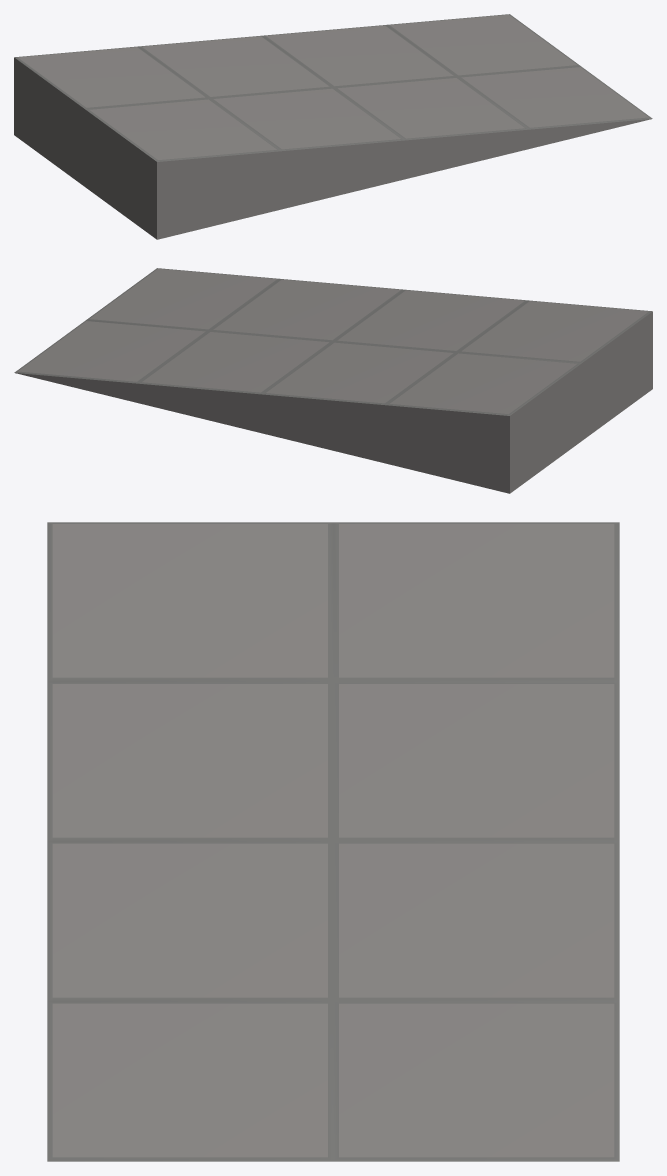
The model's file is SM_Env_Sidewalk_Slope_01.fbx.
3 views of the same model, one above another, from view 1: azimuth 30°, elevation 25°; view 2: azimuth 150°, elevation 25°; view 3: azimuth 270°, elevation 25° (orthographic). The views are drawn at different scales.
Visible parts, largest first — view 1: SM_Env_Sidewalk_Slope_01; view 2: SM_Env_Sidewalk_Slope_01; view 3: SM_Env_Sidewalk_Slope_01.
Boxes of the visible parts, bbox=[...] form: SM_Env_Sidewalk_Slope_01: bbox=[14, 14, 652, 239]; SM_Env_Sidewalk_Slope_01: bbox=[14, 268, 652, 493]; SM_Env_Sidewalk_Slope_01: bbox=[47, 522, 619, 1161].
Size of the model in its own units: 1000 by 150 by 500.
